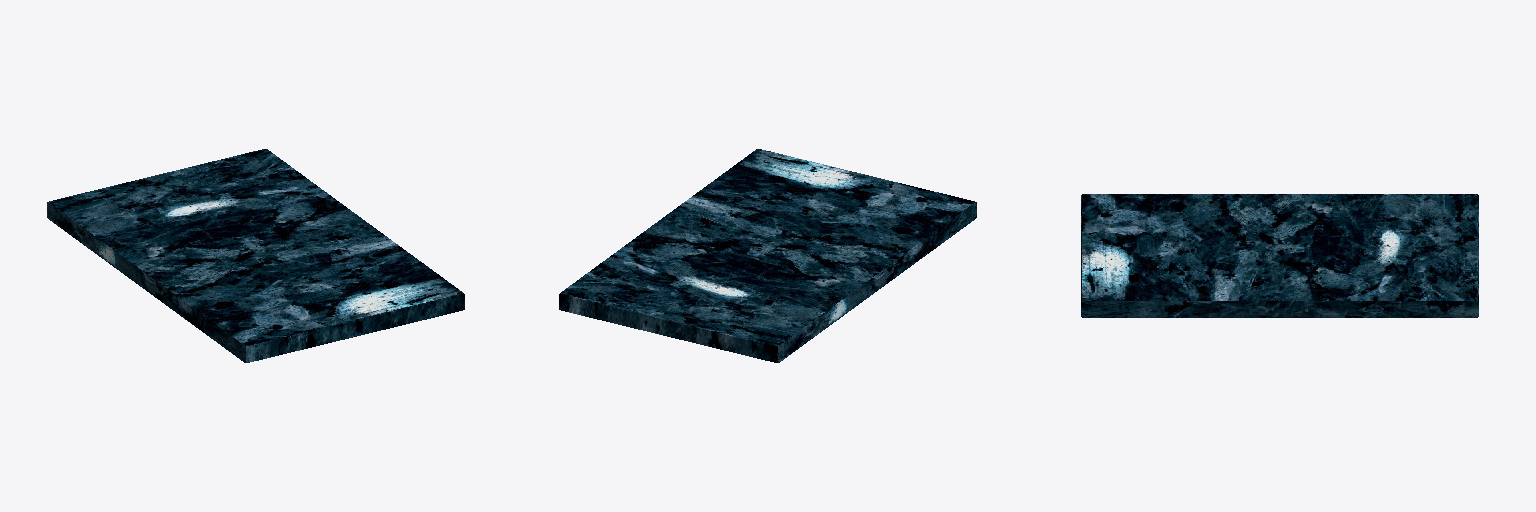
The picture shows the model from 3 angles: view 1: azimuth 30°, elevation 25°; view 2: azimuth 150°, elevation 25°; view 3: azimuth 270°, elevation 25°; orthographic projection.
Visible parts, largest first — view 1: model_model.006; view 2: model_model.006; view 3: model_model.006.
Part boxes in pixels (left/top/right/bottom): model_model.006: left=47, top=149, right=464, bottom=362; model_model.006: left=559, top=149, right=976, bottom=362; model_model.006: left=1081, top=194, right=1478, bottom=317.
Size of the model in its own units: 0.4 by 0.03 by 0.63.
Materials: 1 (1 with a texture image).